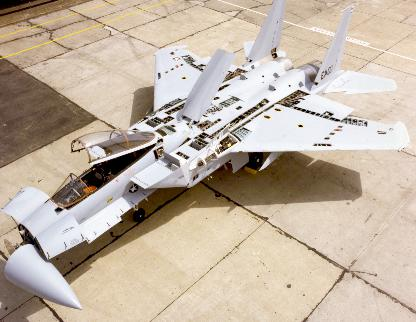F117: (1, 0, 410, 311)
